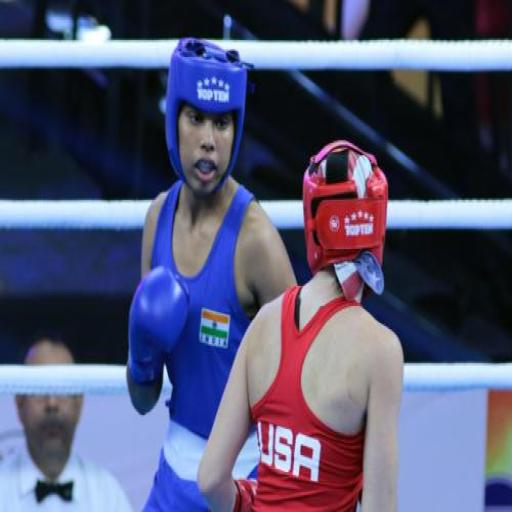boxing: (125, 36, 298, 510), (196, 138, 404, 510)
